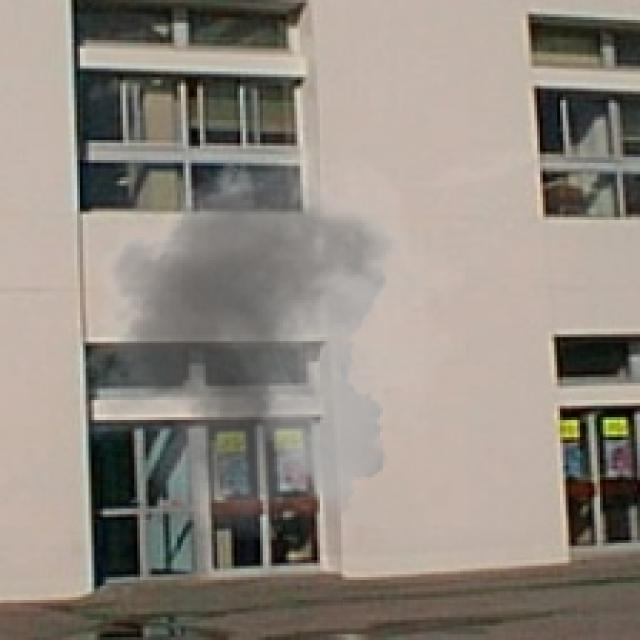smoke: (60, 137, 469, 540)
